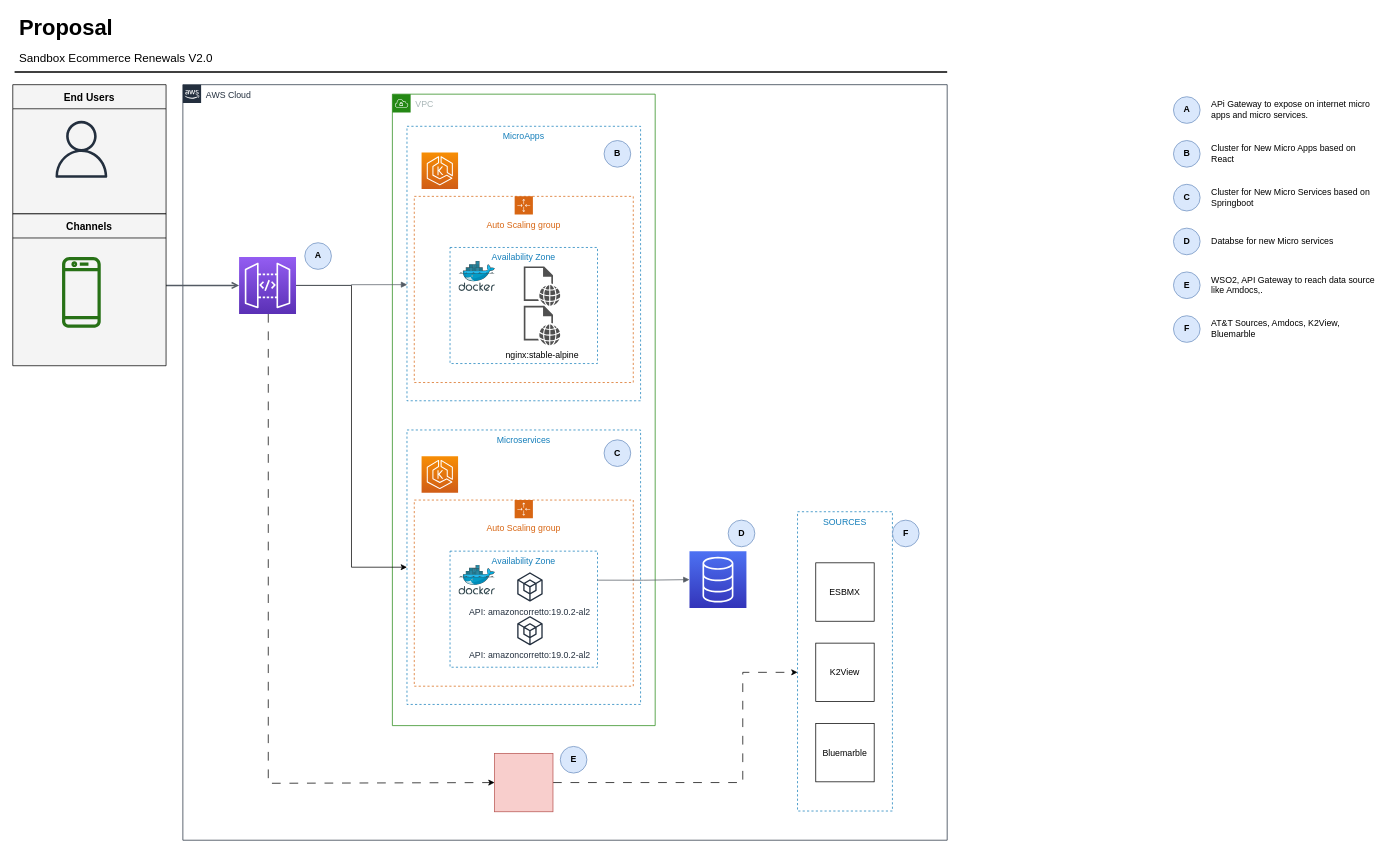
Image size: 1398x853. Some labels were removed from this diagram. Here are the shapes that lost their labels. From the top down, the centre of each, then its label:
At point 81,148: "User".
At point 81,292: "Mobile / Web".
At point 267,285: "Amazon API Gateway".
At point 717,579: "MYSQL/ORACLE".
At point 523,782: "WS02".
